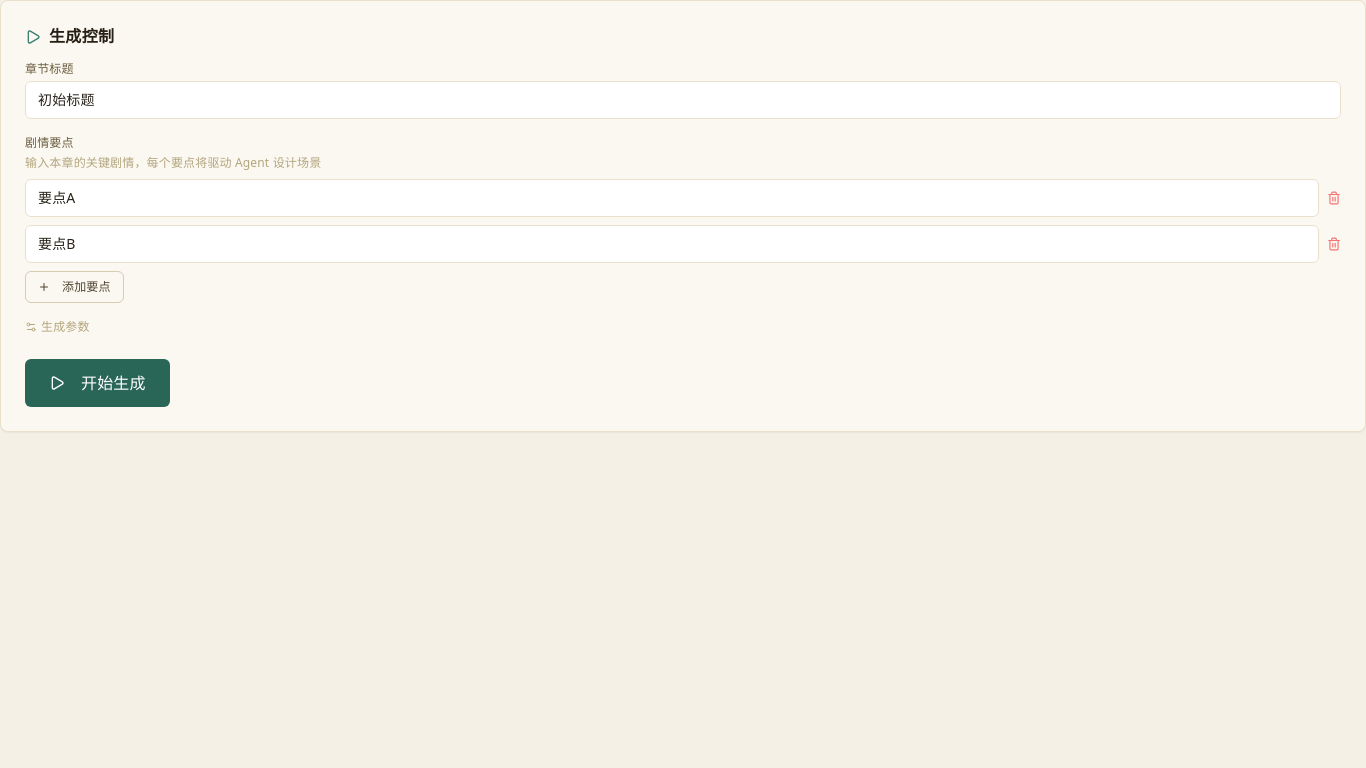
Test: ChapterGenerator › 展开生成参数并调整温度
Expected: the text "Top-P" is not shown
Click the button "生成参数".
click(57, 327)  # box [25,319,90,335]
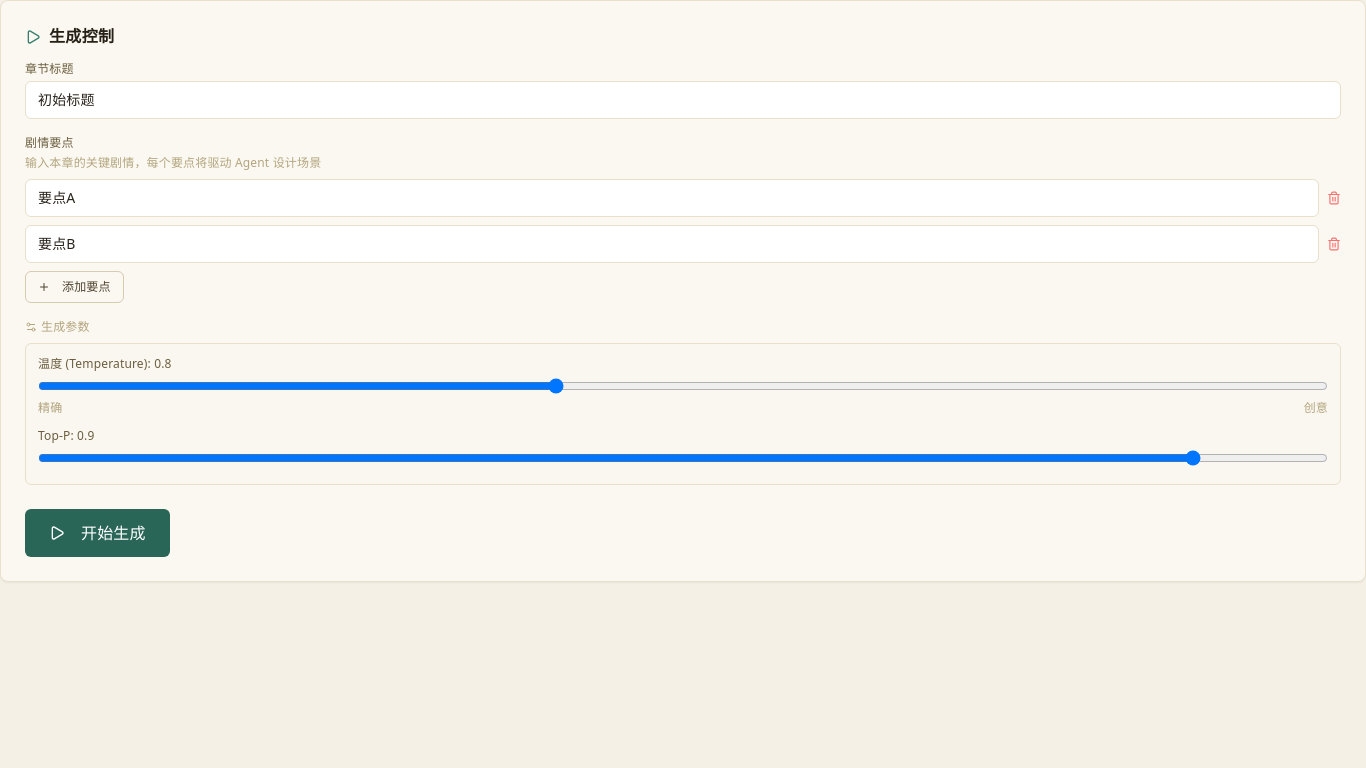
Expected: the text "温度 (Temperature): 0.8" is shown, [38,355,172,372]
Expected: the number of sliders is 2
Set the slider below "温度 (Temperature):" to "1.2" at (810, 386), box [38,378,1328,394]
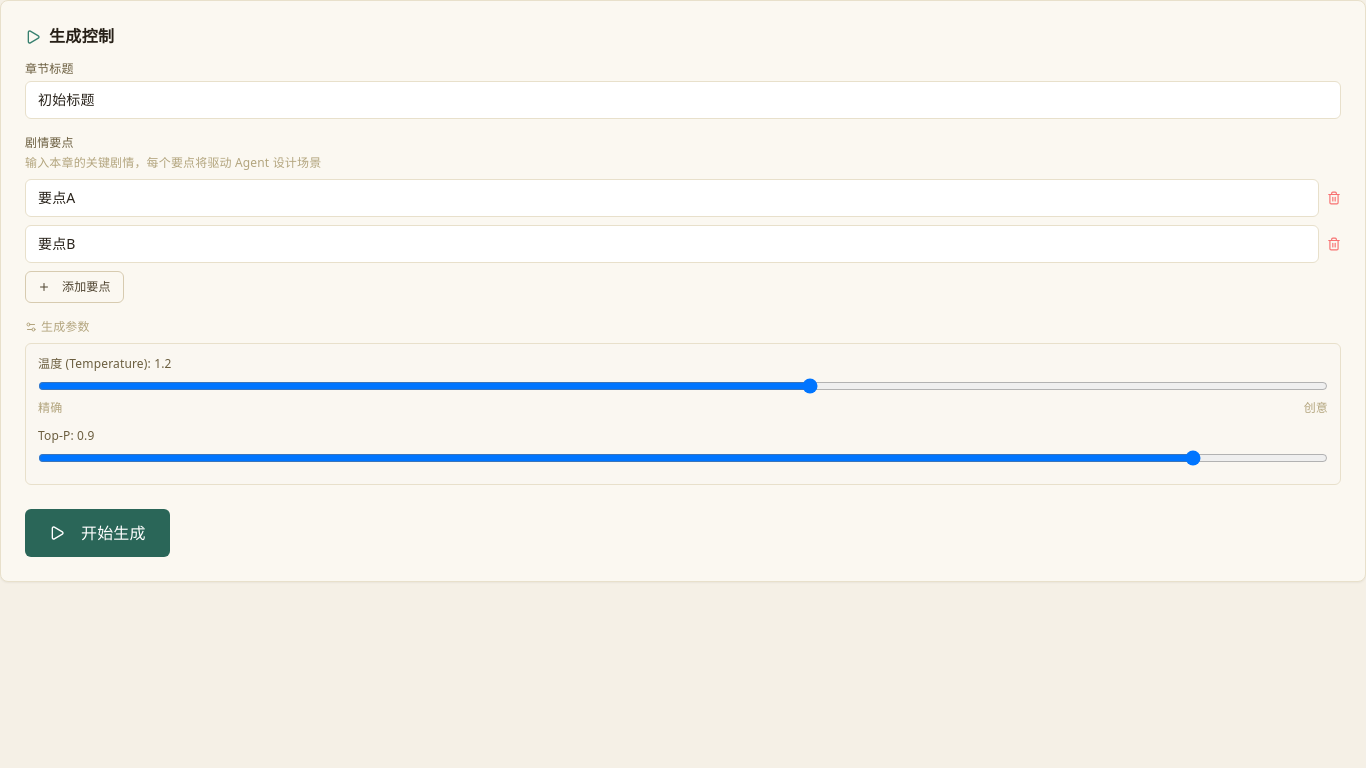
Expected: the text "温度 (Temperature): 1.2" is shown, [38,355,172,372]
